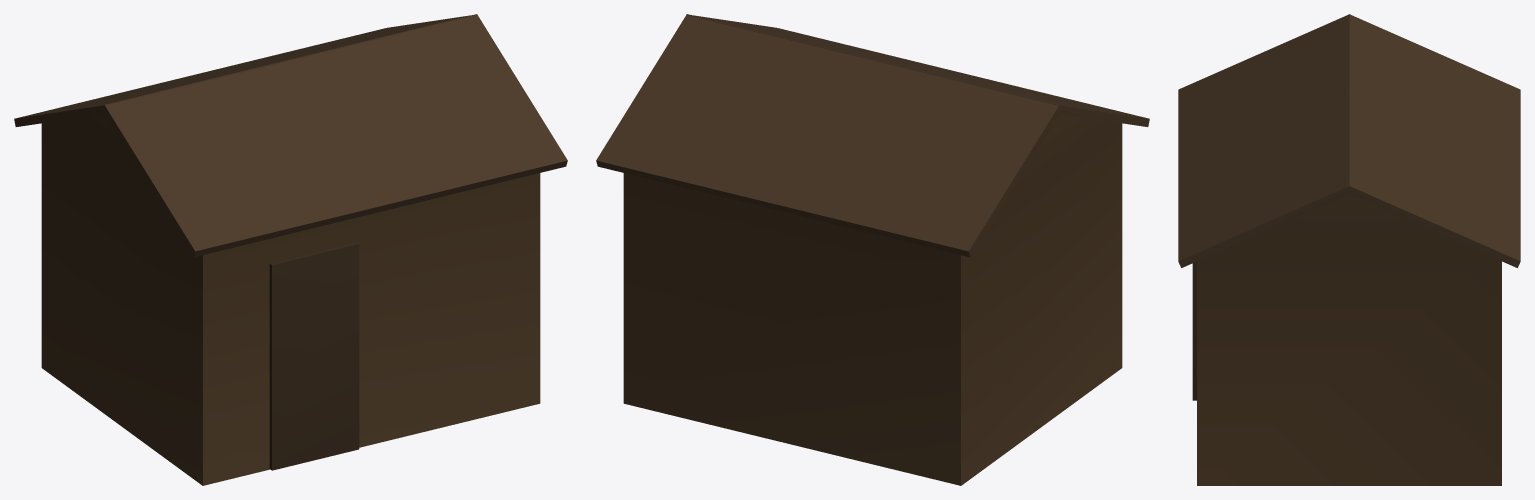
File: struct_shed.glb
The picture shows the model from 3 angles, left to right: view 1: azimuth 30°, elevation 25°; view 2: azimuth 150°, elevation 25°; view 3: azimuth 270°, elevation 25°; orthographic projection. The views are drawn at different scales.
Visible parts, largest first — view 1: walls, roof, door; view 2: walls, roof; view 3: walls, roof, door.
Part boxes in pixels (bbox=[...]): walls: bbox=[41, 114, 540, 485]; roof: bbox=[14, 14, 567, 257]; door: bbox=[269, 242, 359, 470]; walls: bbox=[623, 114, 1122, 485]; roof: bbox=[596, 14, 1149, 257]; walls: bbox=[1197, 194, 1501, 485]; roof: bbox=[1178, 14, 1520, 267]; door: bbox=[1192, 261, 1196, 400].
Bounding box in the file's own units: 2.94 × 2.46 × 2.48.
